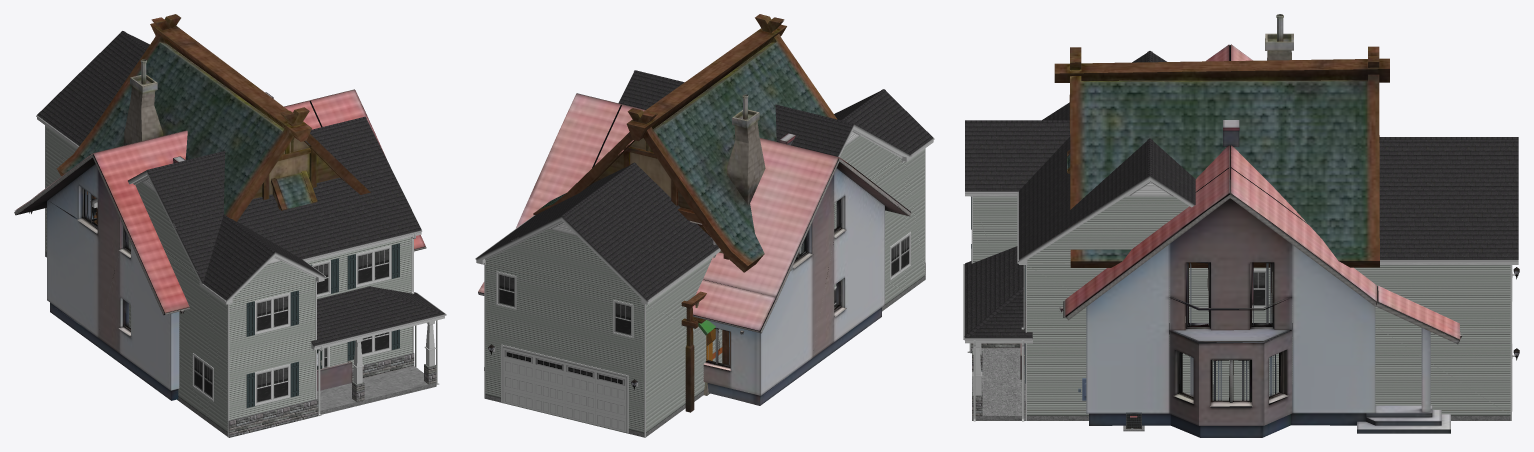
The model's file is scenery.glb.
3 views of the same model, side by side, from view 1: azimuth 30°, elevation 25°; view 2: azimuth 150°, elevation 25°; view 3: azimuth 270°, elevation 25° (orthographic). The views are drawn at different scales.
Visible parts, largest first — view 1: house1, house2, house3; view 2: house1, house2, house3, house4; view 3: house1, house2, house3.
Boxes of the visible parts, left/top/right/bottom form: house1: left=36, top=31, right=446, bottom=437; house2: left=14, top=89, right=426, bottom=400; house3: left=57, top=14, right=370, bottom=224; house1: left=475, top=70, right=934, bottom=437; house2: left=478, top=93, right=911, bottom=405; house3: left=533, top=14, right=837, bottom=412; house4: left=641, top=189, right=722, bottom=395; house1: left=963, top=51, right=1519, bottom=431; house2: left=1020, top=44, right=1462, bottom=437; house3: left=1054, top=14, right=1389, bottom=267.
Size of the model in its own units: 12.6 by 12 by 19.27.
7 materials, 7 textured.
